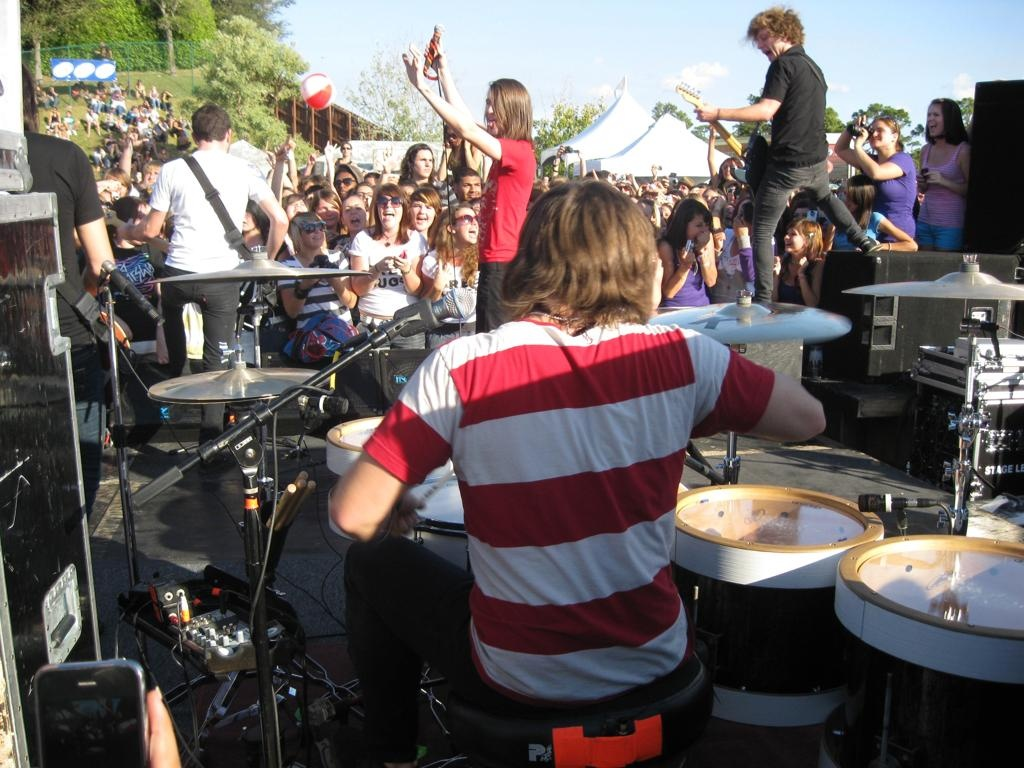human_face: (485, 94, 509, 134), (755, 33, 783, 63), (378, 193, 402, 227), (411, 194, 435, 228), (454, 209, 478, 241), (343, 200, 365, 230), (334, 170, 356, 200), (460, 174, 480, 204), (868, 122, 892, 146), (317, 199, 339, 225), (926, 106, 946, 134), (301, 219, 323, 244), (238, 201, 256, 231), (287, 198, 307, 222), (784, 227, 804, 251), (413, 150, 431, 176), (356, 186, 374, 212), (687, 216, 705, 238), (703, 191, 719, 213), (841, 188, 855, 212), (793, 208, 809, 228), (110, 179, 126, 197), (722, 206, 736, 226), (145, 169, 159, 187), (446, 126, 460, 144), (722, 161, 734, 179), (617, 184, 629, 198), (738, 210, 750, 224), (678, 182, 688, 196), (726, 186, 736, 200), (662, 206, 670, 216)
